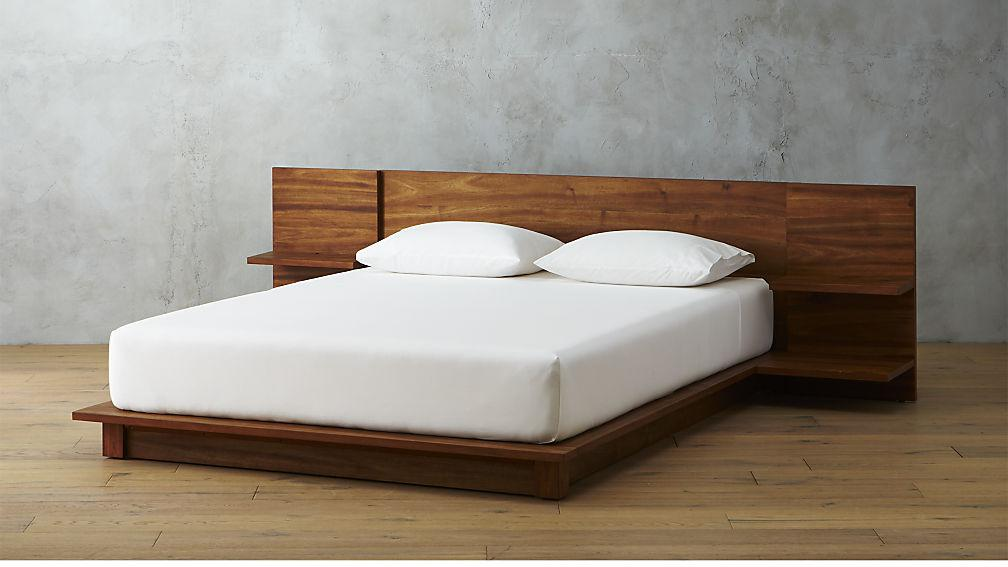bed: (68, 139, 958, 509)
